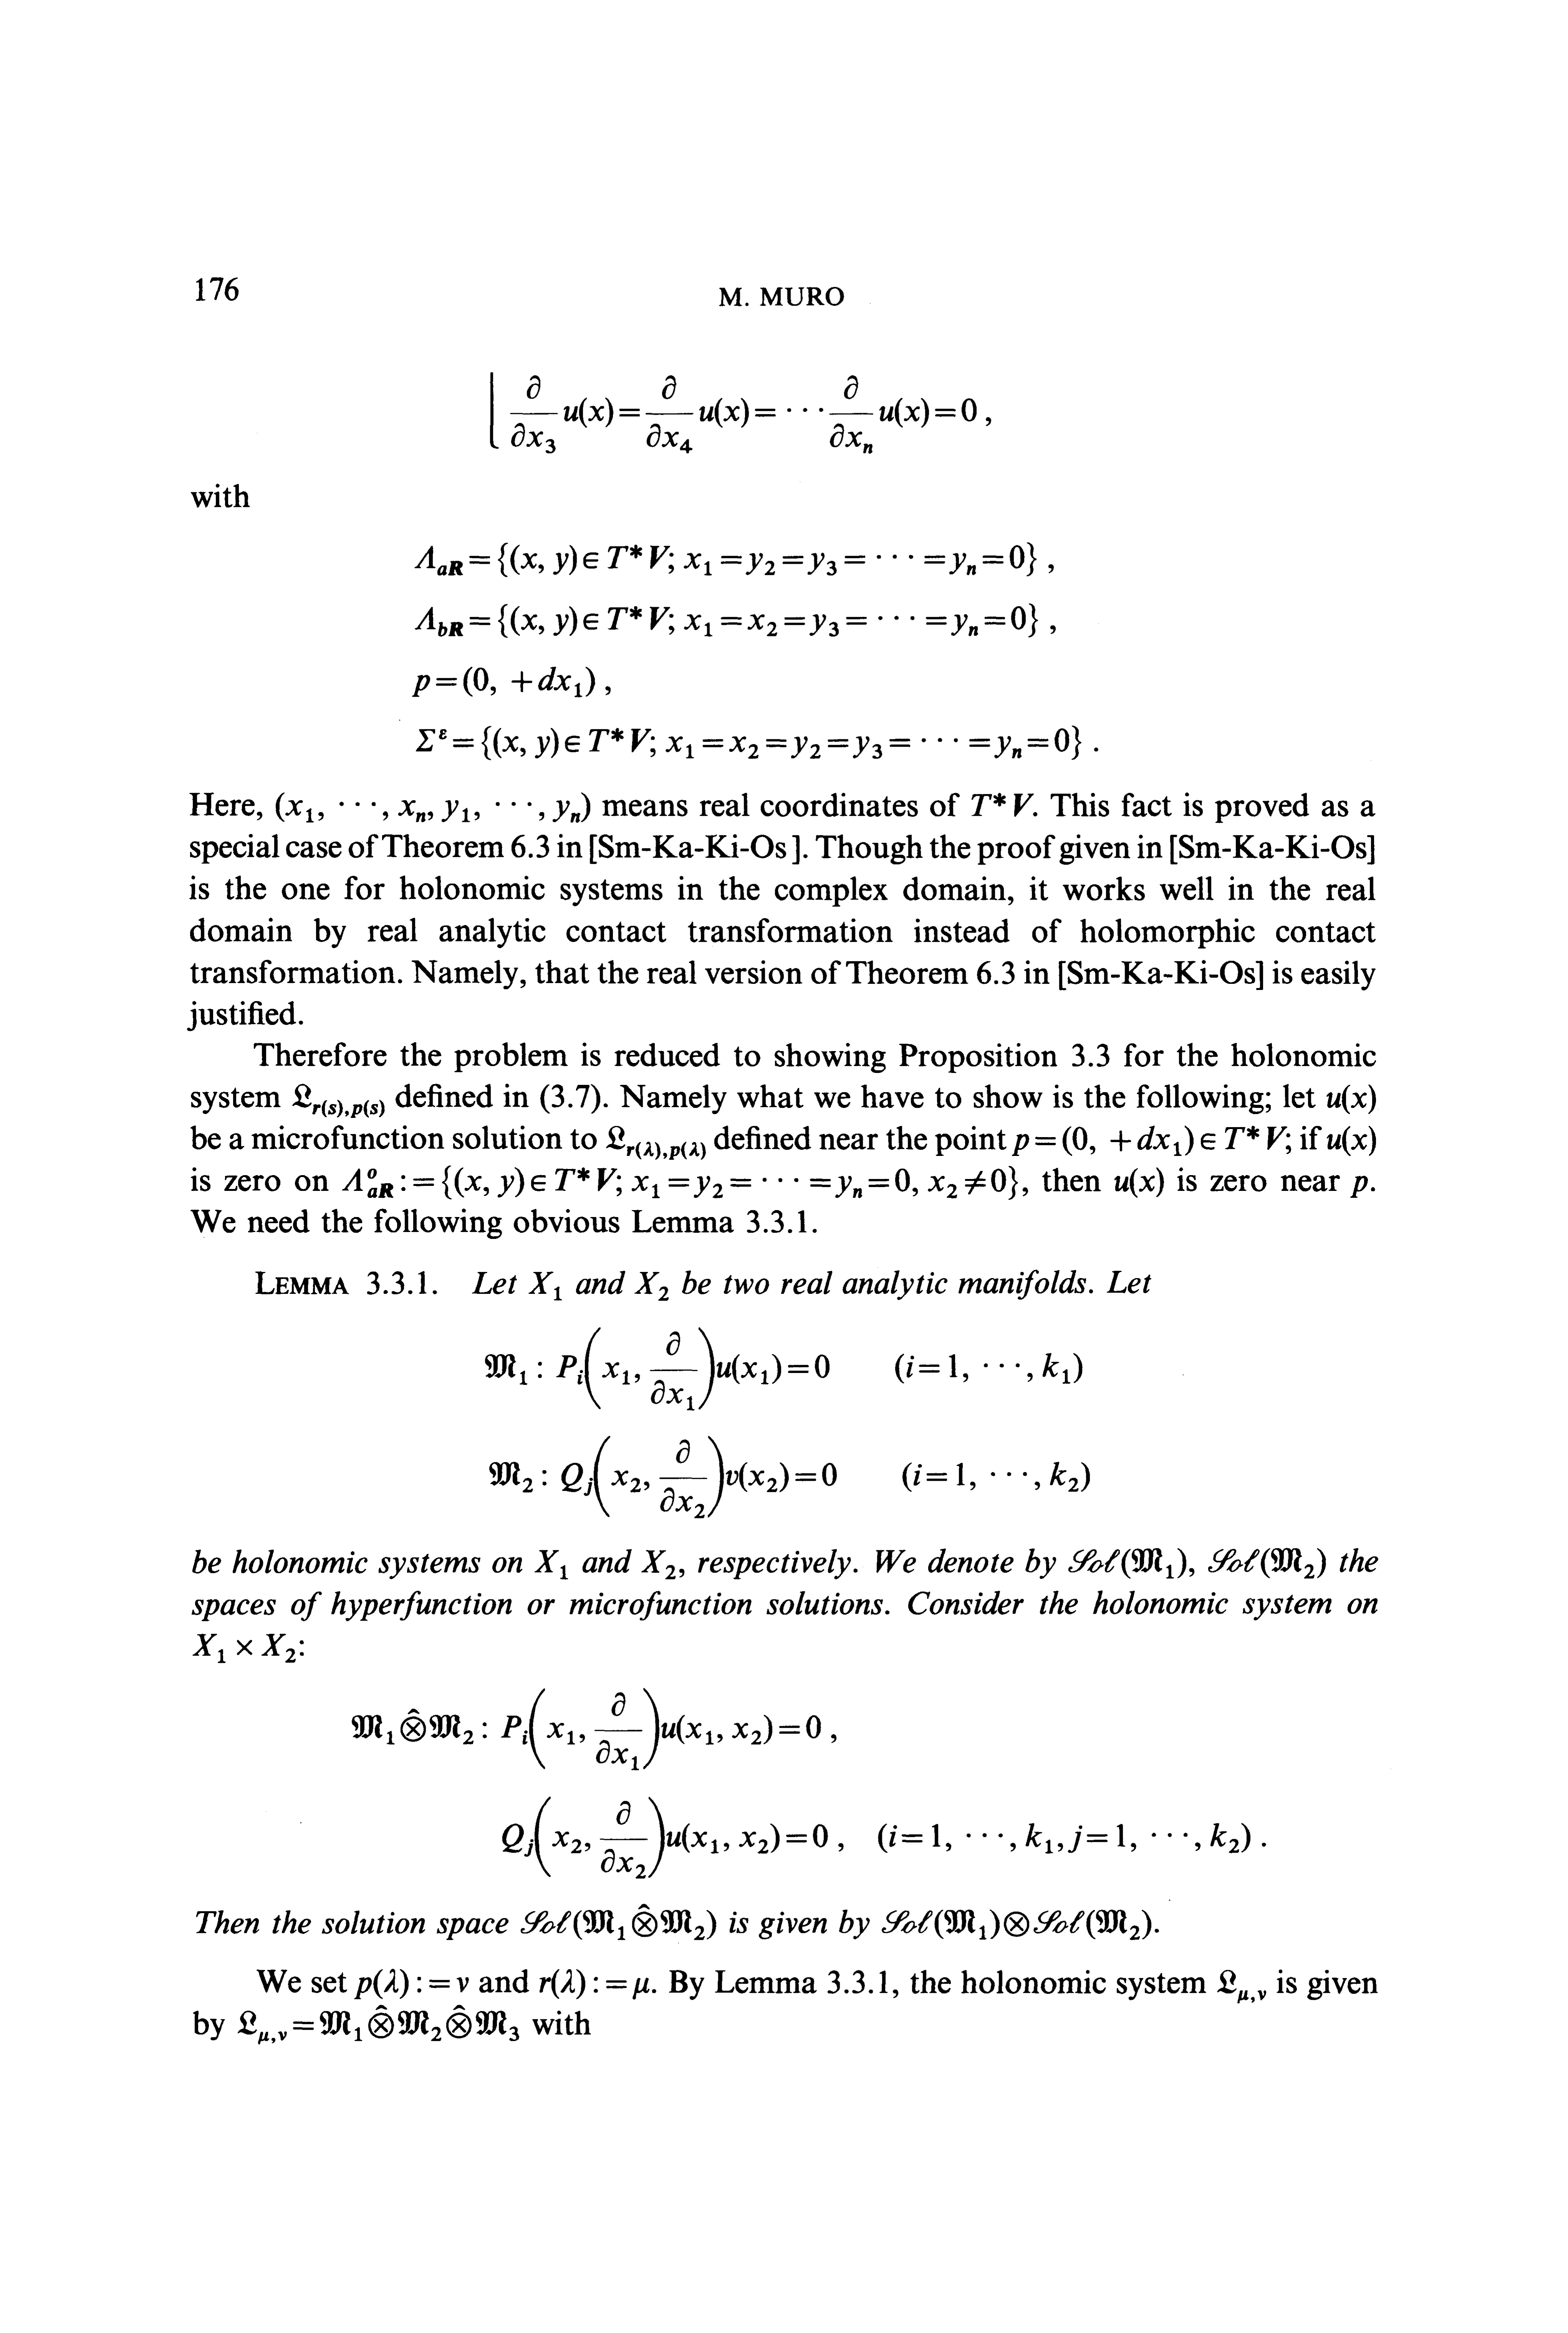maths: (490, 373, 976, 453), (352, 1687, 821, 1769), (485, 1327, 829, 1411), (490, 1435, 837, 1517), (502, 1797, 843, 1878), (341, 1166, 1019, 1199), (416, 726, 1081, 760), (415, 604, 1038, 637), (415, 543, 1036, 576), (878, 1824, 1249, 1853), (238, 2006, 518, 2044), (276, 793, 590, 823), (1012, 1125, 1292, 1155), (882, 1909, 1151, 1939), (520, 1904, 716, 1939), (903, 1461, 1090, 1491), (896, 1353, 1081, 1383), (411, 667, 595, 697), (1208, 1547, 1326, 1579), (1069, 1547, 1186, 1579), (354, 1969, 469, 1999), (605, 1125, 705, 1159), (539, 1969, 649, 1999), (292, 1083, 385, 1118), (193, 1633, 296, 1663), (1216, 1971, 1265, 2004), (971, 793, 1038, 816), (1326, 1125, 1375, 1155), (1115, 1167, 1164, 1197), (1326, 1085, 1375, 1113), (634, 1272, 668, 1300), (641, 1551, 675, 1579), (528, 1272, 562, 1300), (534, 1551, 567, 1579), (1351, 1176, 1367, 1197)
